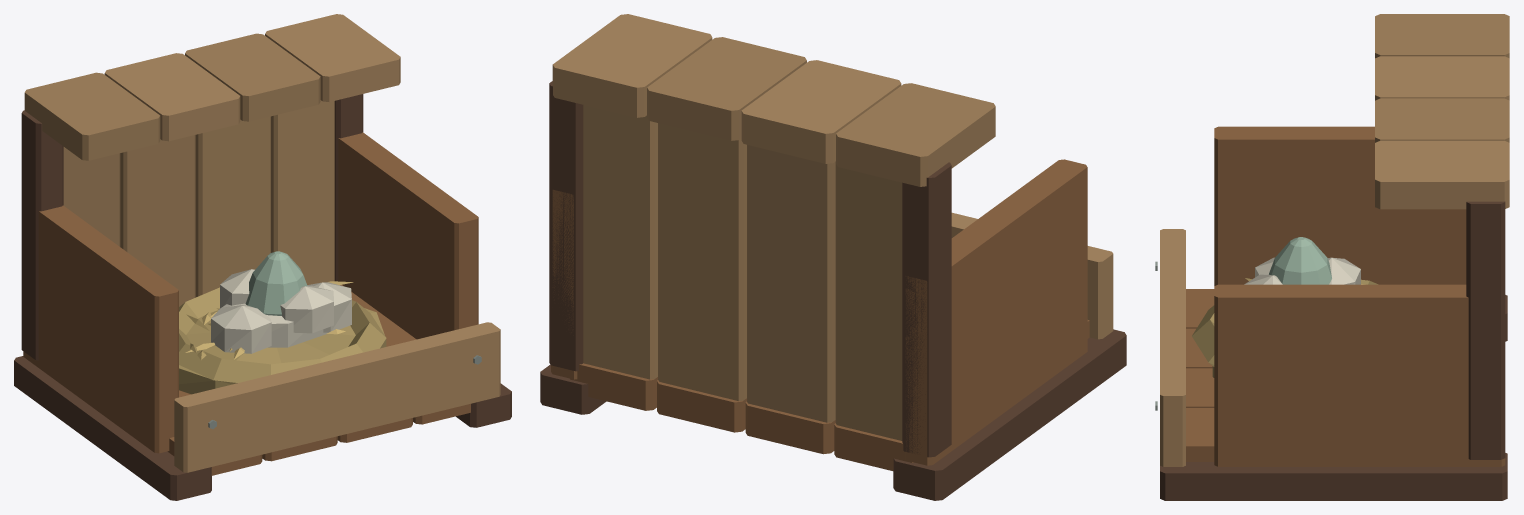
The model's file is nest_box.glb.
The picture shows the model from 3 angles, left to right: view 1: azimuth 30°, elevation 25°; view 2: azimuth 150°, elevation 25°; view 3: azimuth 270°, elevation 25°; orthographic projection. The views are drawn at different scales.
Visible parts, largest first — view 1: geometry, fur, duck_egg; view 2: geometry; view 3: geometry, duck_egg, fur.
Part boxes in pixels (bbox=[...]): geometry: bbox=[14, 14, 511, 500]; fur: bbox=[211, 269, 351, 353]; duck_egg: bbox=[245, 251, 307, 315]; geometry: bbox=[540, 14, 1126, 500]; geometry: bbox=[1155, 14, 1509, 500]; duck_egg: bbox=[1268, 237, 1331, 284]; fur: bbox=[1244, 257, 1360, 284].
Bounding box in the file's own units: 0.98 × 0.795 × 0.816.
